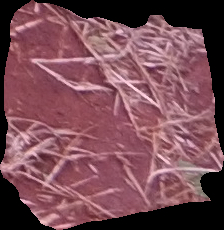soil: (3, 3, 220, 225)
